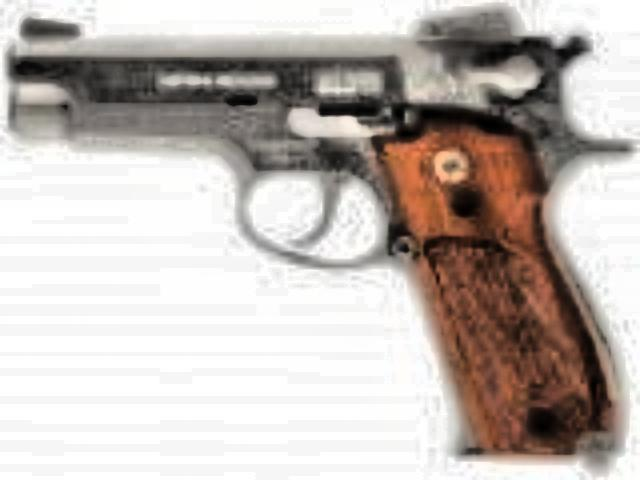pistol: (16, 0, 616, 456)
